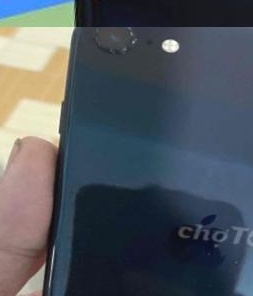scratch: (85, 27, 144, 55)
